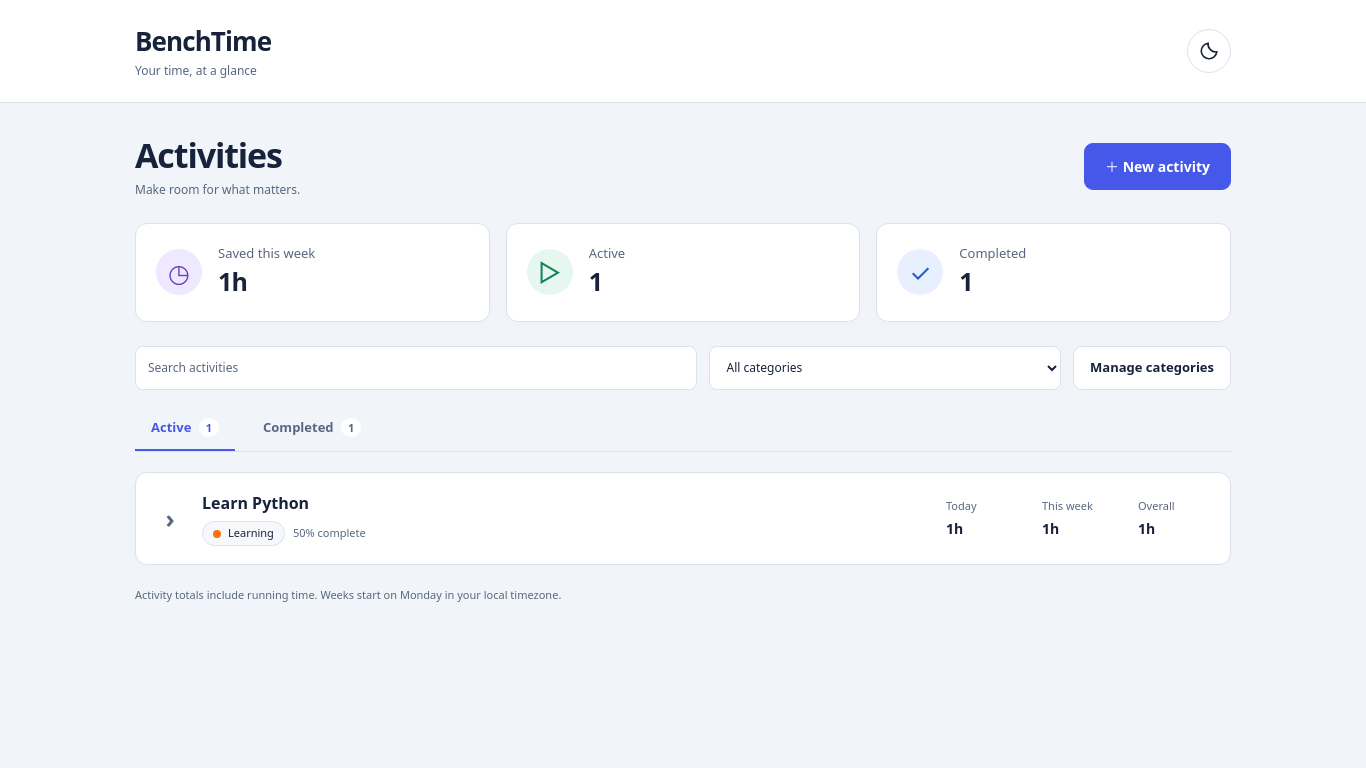
redesigned dashboard › shows scoped totals instead of history and keeps global counts while filtering
The width and height of the screenshot is (1366, 768).
In the search field with placeholder "Search activities": (416, 368) left=135, top=346, right=698, bottom=390, type "  FASTapi "
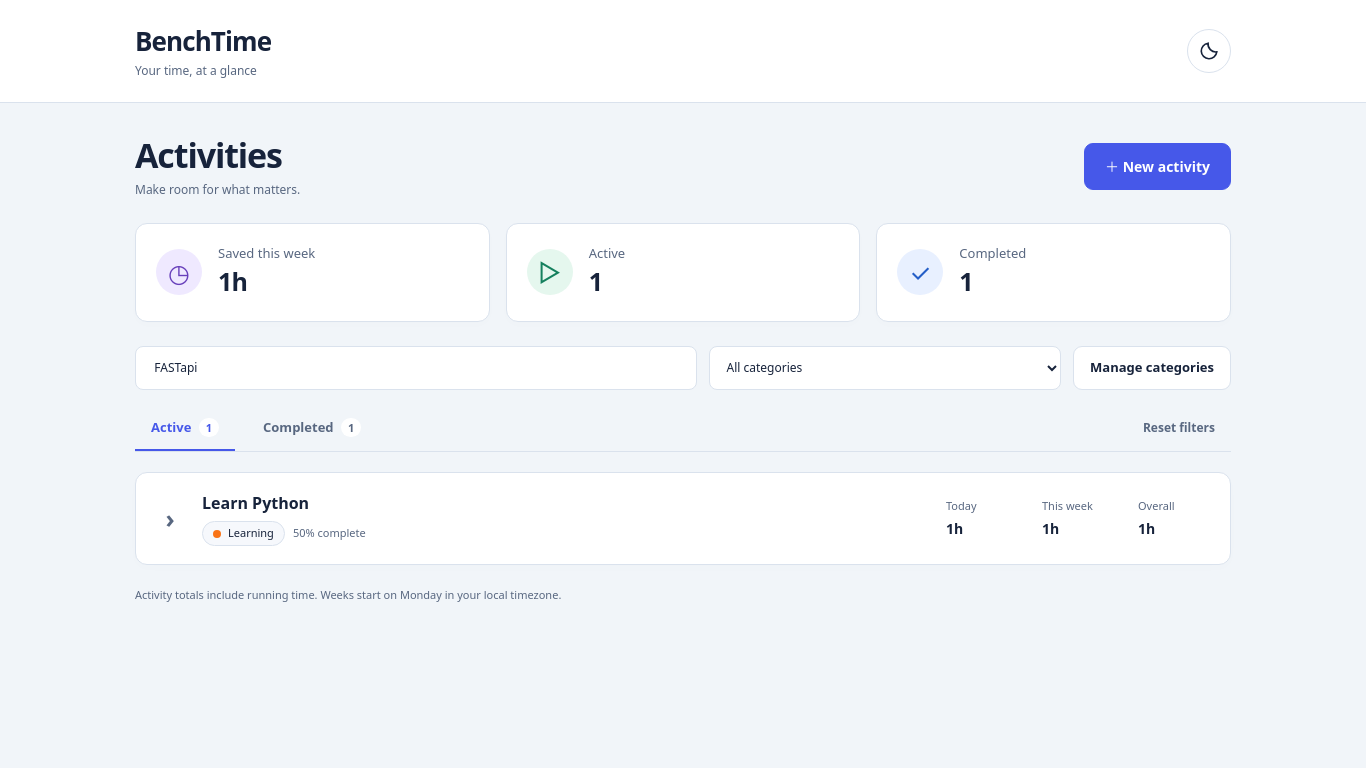
Select "Uncategorized" in the dropdown named "Filter by category": (885, 368) left=710, top=346, right=1061, bottom=390
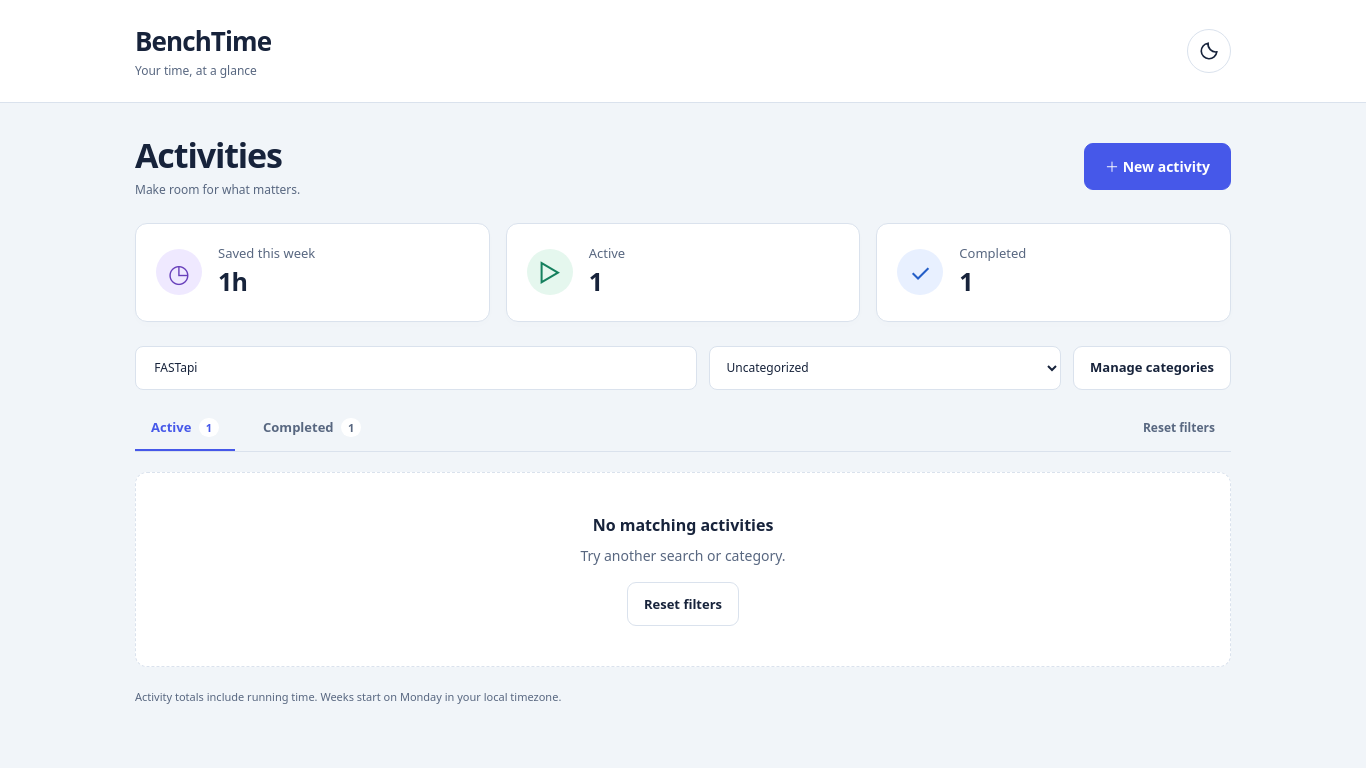
Now the text "No matching activities" is shown, box left=593, top=514, right=773, bottom=536
